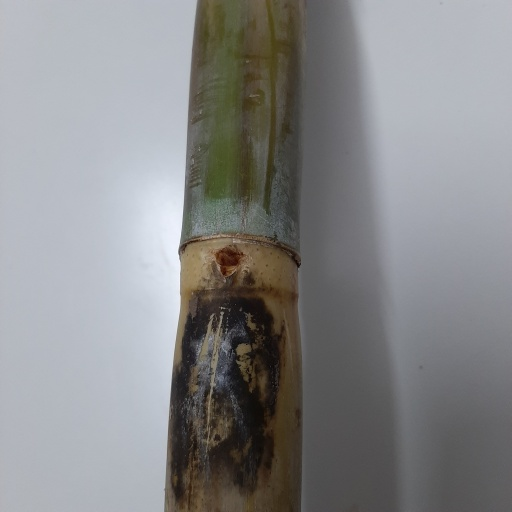Damage_Bud: (215, 242, 248, 283)
